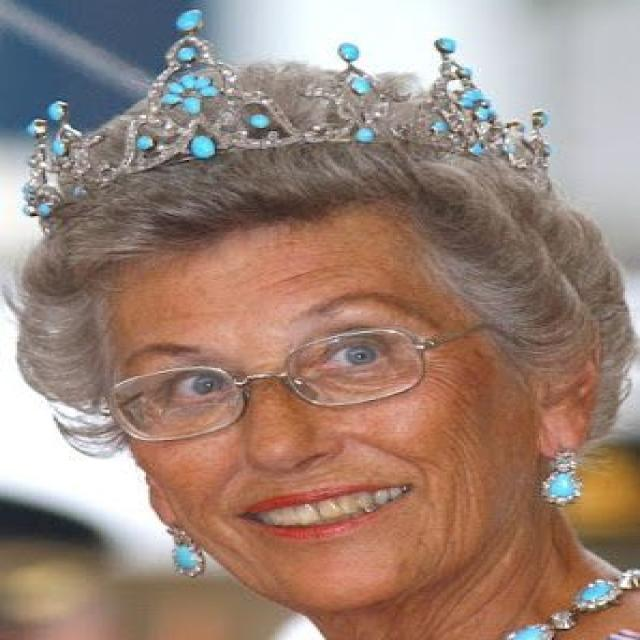Earring: (153, 522, 215, 596), (539, 434, 592, 519)
